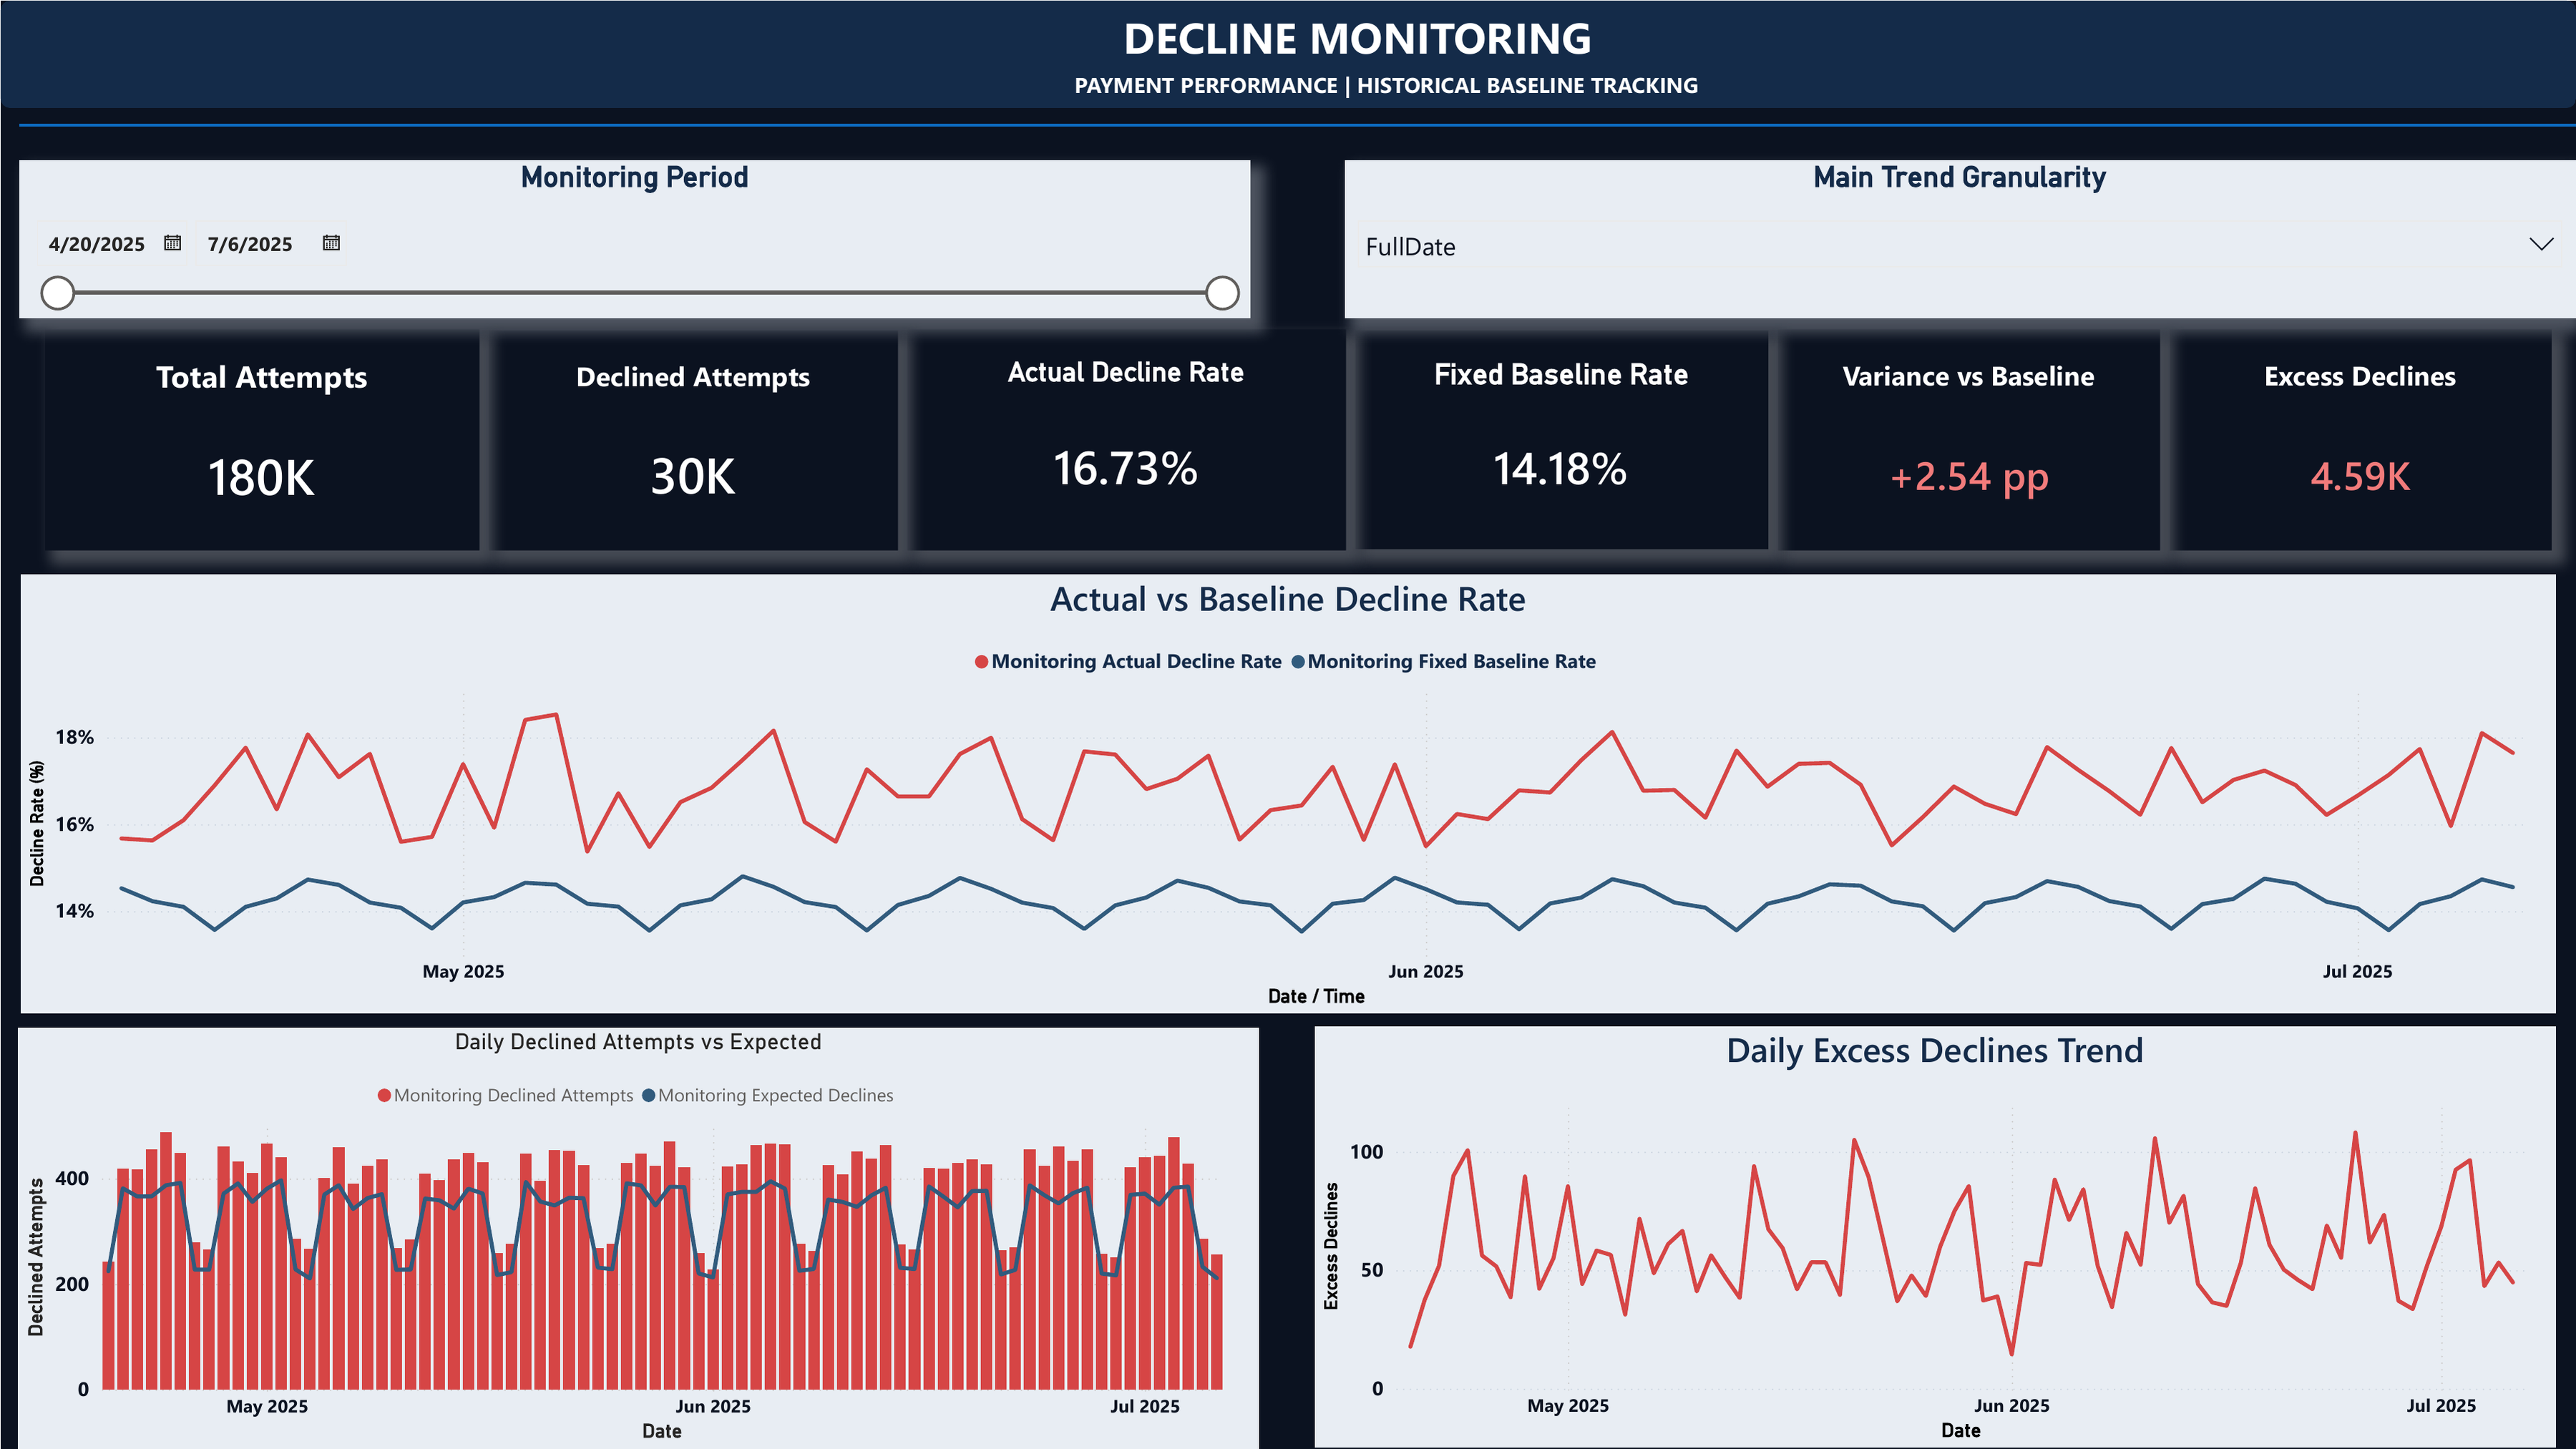

What the dashboard file says about the page in this screenshot:
{"tool":"powerbi","page":{"name":"Decline Monitoring","canvas":[1920,1080],"ordinal":5},"visuals":[{"type":"shape","box":[0,0,1920,80],"z":0},{"type":"textbox","box":[658.1,0,707.5,60],"z":1000},{"type":"textbox","box":[758.1,46.5,551.2,32.6],"z":2000},{"type":"cardVisual","title":"Total Attempts","fields":{"Data":["_Measures.Monitoring Total Attempts"]},"box":[32.5,245.4,323.8,164.2],"z":3000,"group":"g1"},{"type":"cardVisual","title":"Fixed Baseline Rate","fields":{"Data":["_Measures.Monitoring Fixed Baseline Rate"]},"box":[1009.6,246.2,307.5,162.6],"z":4000,"group":"g1"},{"type":"cardVisual","title":"Declined Attempts","fields":{"Data":["_Measures.Monitoring Declined Attempts"]},"box":[363.3,245.5,304.8,164],"z":6000,"group":"g1"},{"type":"cardVisual","title":"Variance vs Baseline","fields":{"Data":["_Measures.Monitoring Variance Display"]},"box":[1324.1,245,285,165.1],"z":7000,"group":"g1"},{"type":"cardVisual","title":"Actual Decline Rate","fields":{"Data":["_Measures.Monitoring Actual Decline Rate"]},"box":[675.1,245,327.5,165.1],"z":8000,"group":"g1"},{"type":"cardVisual","title":"Excess Declines","fields":{"Data":["_Measures.Monitoring Excess Declines"]},"box":[1616.1,245,285,165.1],"z":15001,"group":"g1"},{"type":"slicer","title":"Monitoring Period","fields":{"Values":["DimDate.FullDate"]},"box":[14,118.6,918,118.6],"z":15002},{"type":"group","id":"g1","title":"Group 1","box":[32.5,245,1870,162.5],"z":15003},{"type":"slicer","title":"Main Trend Granularity","fields":{"Values":["Time Granularity 2.Time Granularity"]},"box":[1002.3,118.6,918,118],"z":15004},{"type":"lineChart","title":"Actual vs Baseline Decline Rate","fields":{"Category":["DimDate.FullDate"],"Y":["_Measures.Monitoring Actual Decline Rate","_Measures.Monitoring Fixed Baseline Rate"]},"box":[15,427.5,1890,327.9],"z":15005},{"type":"shape","box":[14,62.8,1907,60.5],"z":15006},{"type":"lineStackedColumnComboChart","title":"Daily Declined Attempts vs Expected","fields":{"Category":["DimDate.FullDate"],"Y":["_Measures.Monitoring Declined Attempts"],"Y2":["_Measures.Monitoring Expected Declines"]},"box":[12.9,765.7,925,314.3],"z":15007},{"type":"lineChart","title":"\tDaily Excess Declines Trend","fields":{"Category":["DimDate.FullDate"],"Y":["_Measures.Monitoring Excess Declines"]},"box":[980,765,925,314],"z":15008}]}

Visuals, with their boxes in screenshot pixels (x1, y1, x2, y2), scaled from the page's 1920x1080 canvas onto the 2576x1449 screenshot:
shape: pyautogui.locateOnScreen(0, 0, 2575, 107)
textbox: pyautogui.locateOnScreen(883, 0, 1832, 80)
textbox: pyautogui.locateOnScreen(1017, 62, 1757, 106)
"Total Attempts" cardVisual: pyautogui.locateOnScreen(44, 329, 478, 550)
"Fixed Baseline Rate" cardVisual: pyautogui.locateOnScreen(1355, 331, 1767, 548)
"Declined Attempts" cardVisual: pyautogui.locateOnScreen(487, 329, 897, 550)
"Variance vs Baseline" cardVisual: pyautogui.locateOnScreen(1777, 328, 2159, 550)
"Actual Decline Rate" cardVisual: pyautogui.locateOnScreen(906, 328, 1345, 550)
"Excess Declines" cardVisual: pyautogui.locateOnScreen(2168, 328, 2551, 550)
"Monitoring Period" slicer: pyautogui.locateOnScreen(19, 159, 1251, 318)
"Group 1" group: pyautogui.locateOnScreen(44, 328, 2552, 547)
"Main Trend Granularity" slicer: pyautogui.locateOnScreen(1345, 159, 2575, 318)
"Actual vs Baseline Decline Rate" lineChart: pyautogui.locateOnScreen(20, 574, 2556, 1013)
shape: pyautogui.locateOnScreen(19, 84, 2575, 165)
"Daily Declined Attempts vs Expected" lineStackedColumnComboChart: pyautogui.locateOnScreen(17, 1028, 1259, 1448)
"	Daily Excess Declines Trend" lineChart: pyautogui.locateOnScreen(1315, 1026, 2556, 1448)
